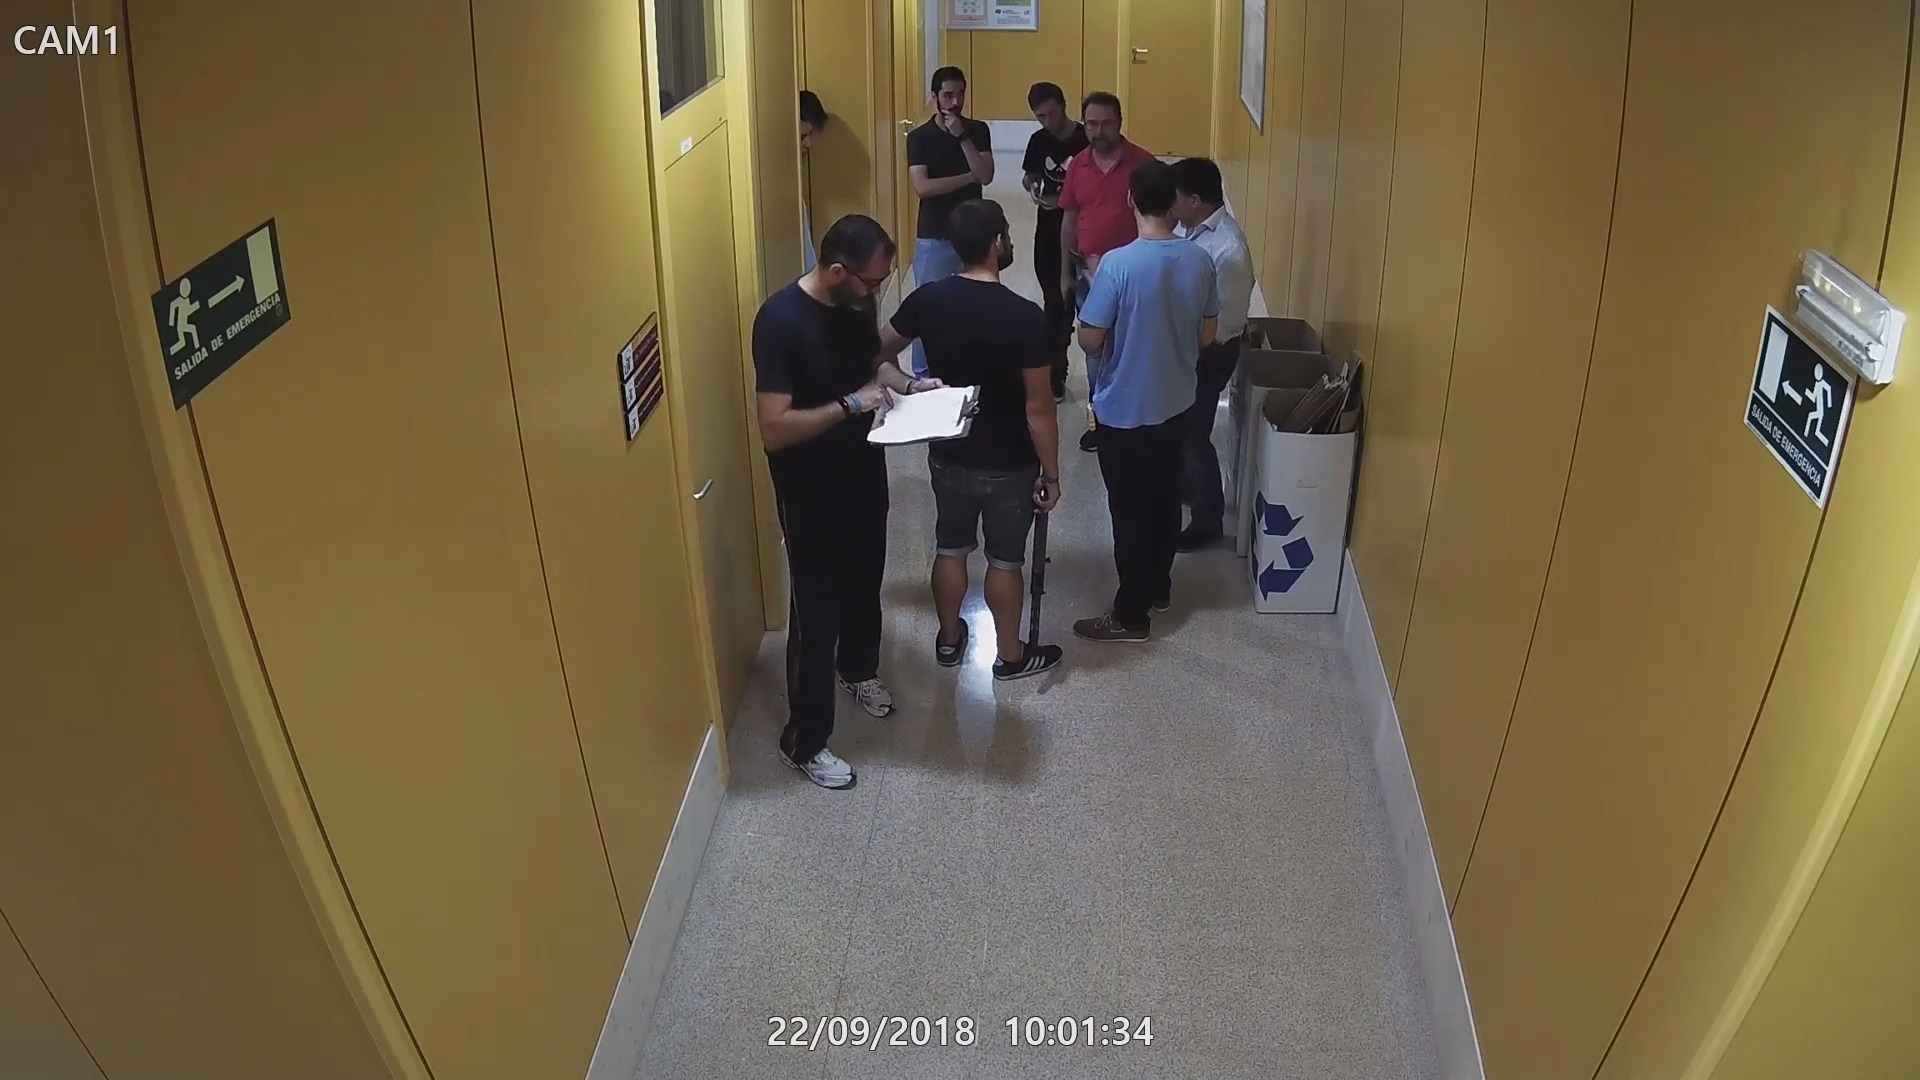Handgun: (1063, 243, 1089, 270)
Short_rifle: (1019, 477, 1054, 675), (1054, 276, 1080, 401)
